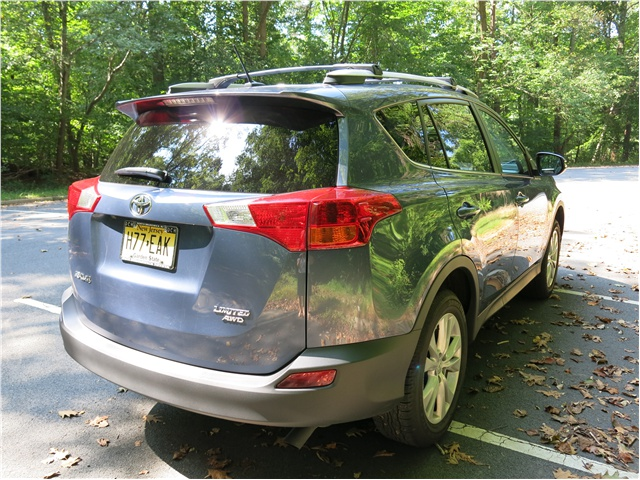Toyota RAV-4: (57, 80, 568, 450)
